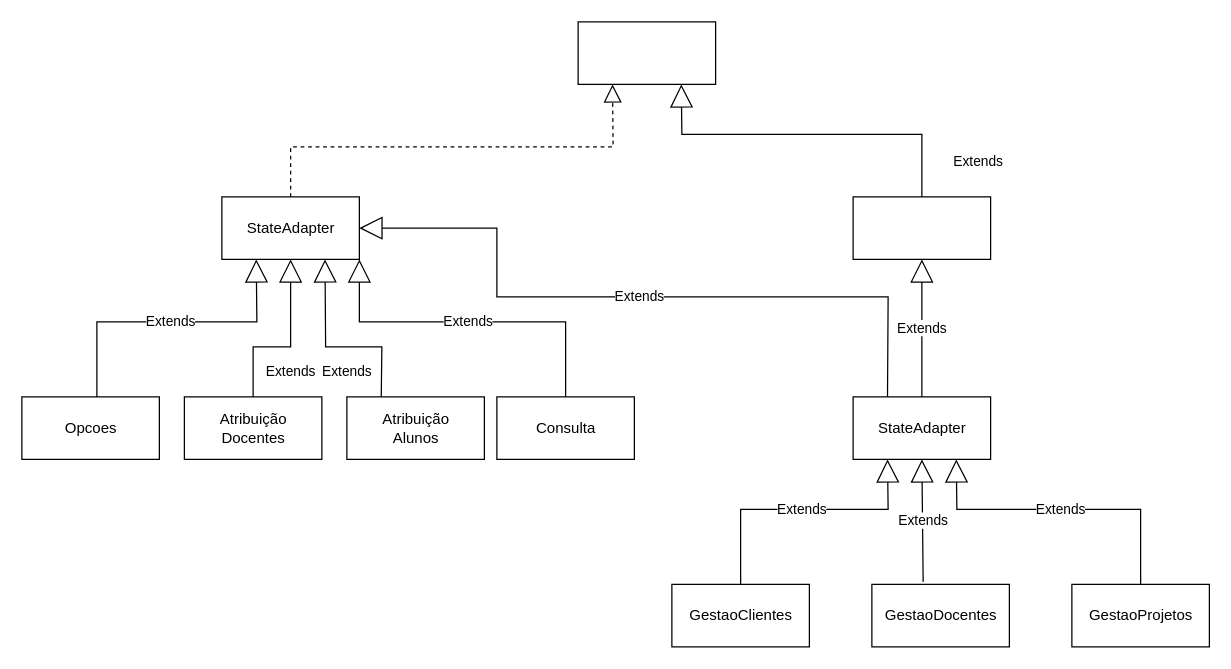
Some shapes in this 1231 by 669 pixel diagram are drawn without their labels. Each missing label, with the centre of its shape:
«interface» IState: (x=646, y=52)
«interface» IStateConfig: (x=921, y=227)
